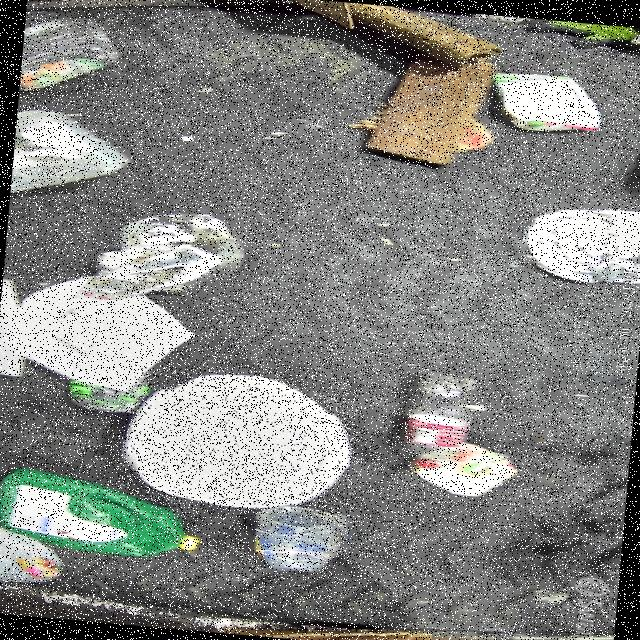milk-jug: (118, 362, 362, 520)
